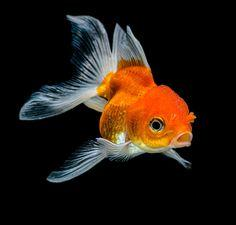goldfish: (38, 36, 211, 181)
